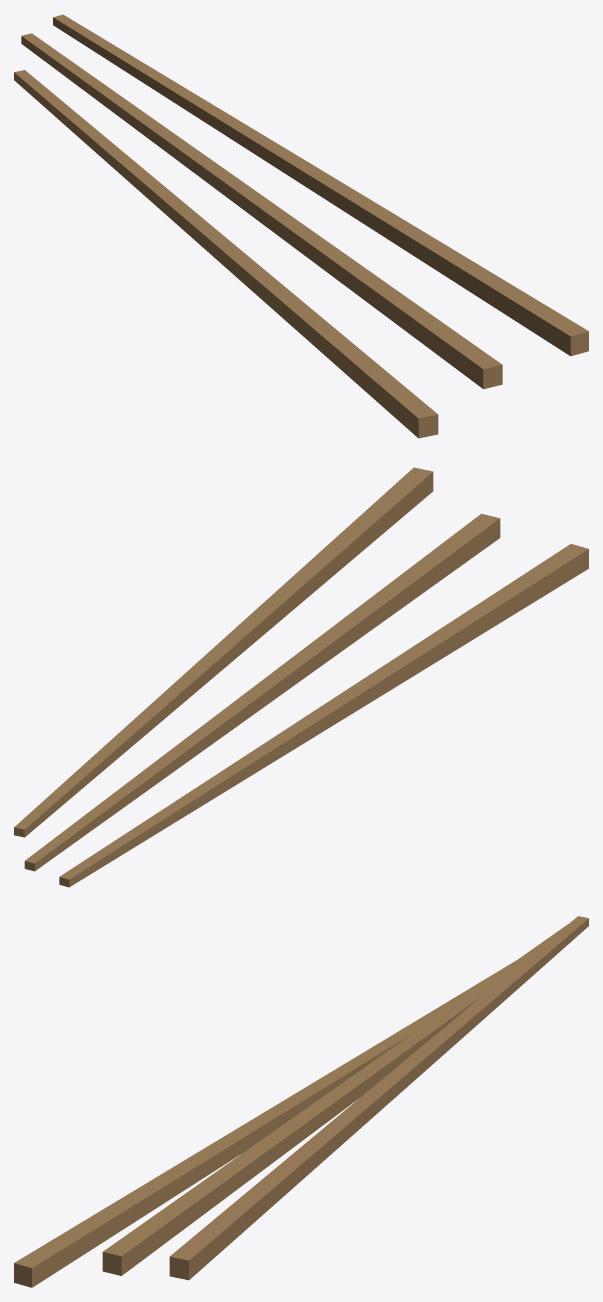
Rendered from ArrowShaftStack3.glb.
3 views of the same model, one above another, from view 1: azimuth 30°, elevation 25°; view 2: azimuth 150°, elevation 25°; view 3: azimuth 330°, elevation 25° (orthographic).
Parts seen in each view (by area): view 1: ArrowShaftStack3; view 2: ArrowShaftStack3; view 3: ArrowShaftStack3.
Part boxes in pixels (box(x1,y1,x2,y2)): ArrowShaftStack3: box(14, 14, 588, 438); ArrowShaftStack3: box(14, 467, 588, 887); ArrowShaftStack3: box(14, 916, 588, 1287).
Bounding box in the file's own units: 0.1201 × 0.0412 × 0.5739.
